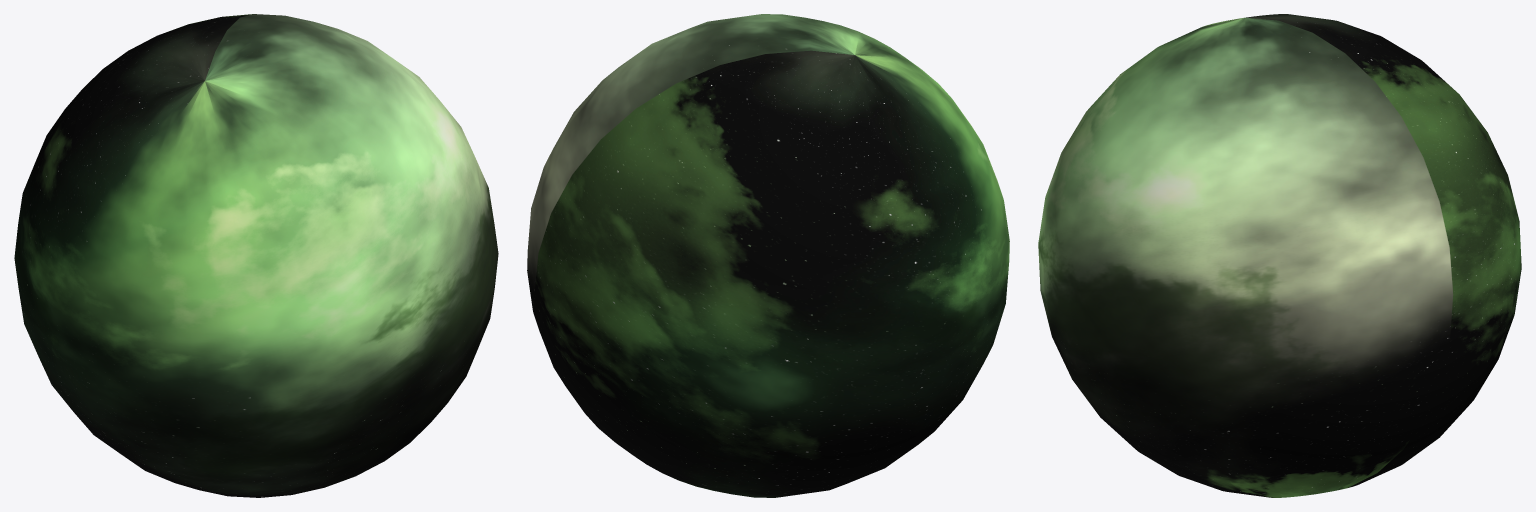
The model's file is astro2.glb.
3 views of the same model, side by side, from view 1: azimuth 30°, elevation 25°; view 2: azimuth 150°, elevation 25°; view 3: azimuth 270°, elevation 25° (orthographic).
Parts seen in each view (by area): view 1: Sphere; view 2: Sphere; view 3: Sphere.
Part boxes in pixels (<box>): Sphere: <box>14,14,498,497</box>; Sphere: <box>527,14,1009,497</box>; Sphere: <box>1038,14,1521,497</box>.
Size of the model in its own units: 11.92 by 11.95 by 11.93.
2 materials, 2 textured.
